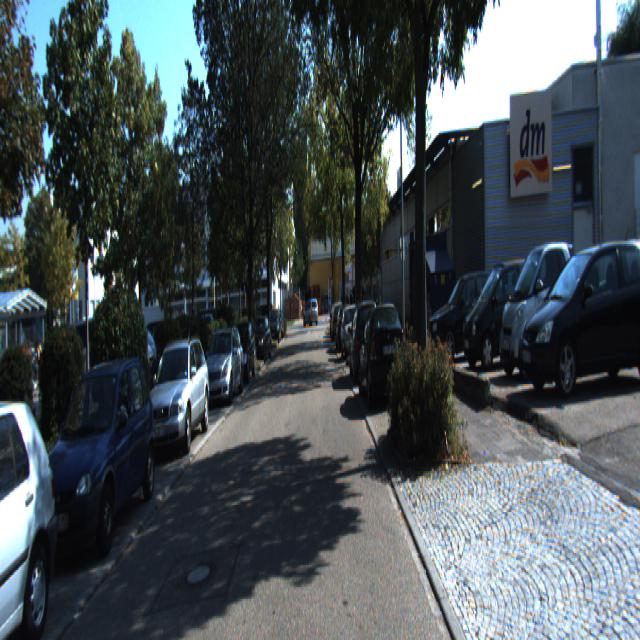Car: (33, 350, 161, 572), (516, 232, 639, 411), (0, 386, 69, 638), (495, 234, 592, 387), (458, 248, 552, 378), (140, 336, 210, 464), (427, 264, 509, 366), (357, 300, 407, 413), (200, 323, 244, 406), (348, 296, 382, 387)
